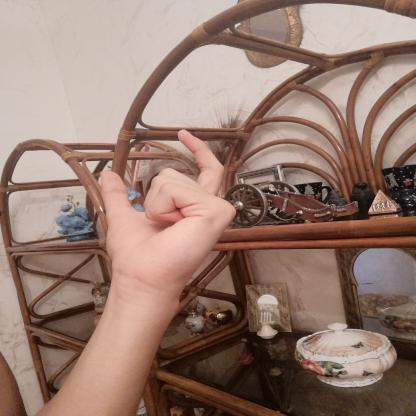NOON: (78, 121, 249, 295)
